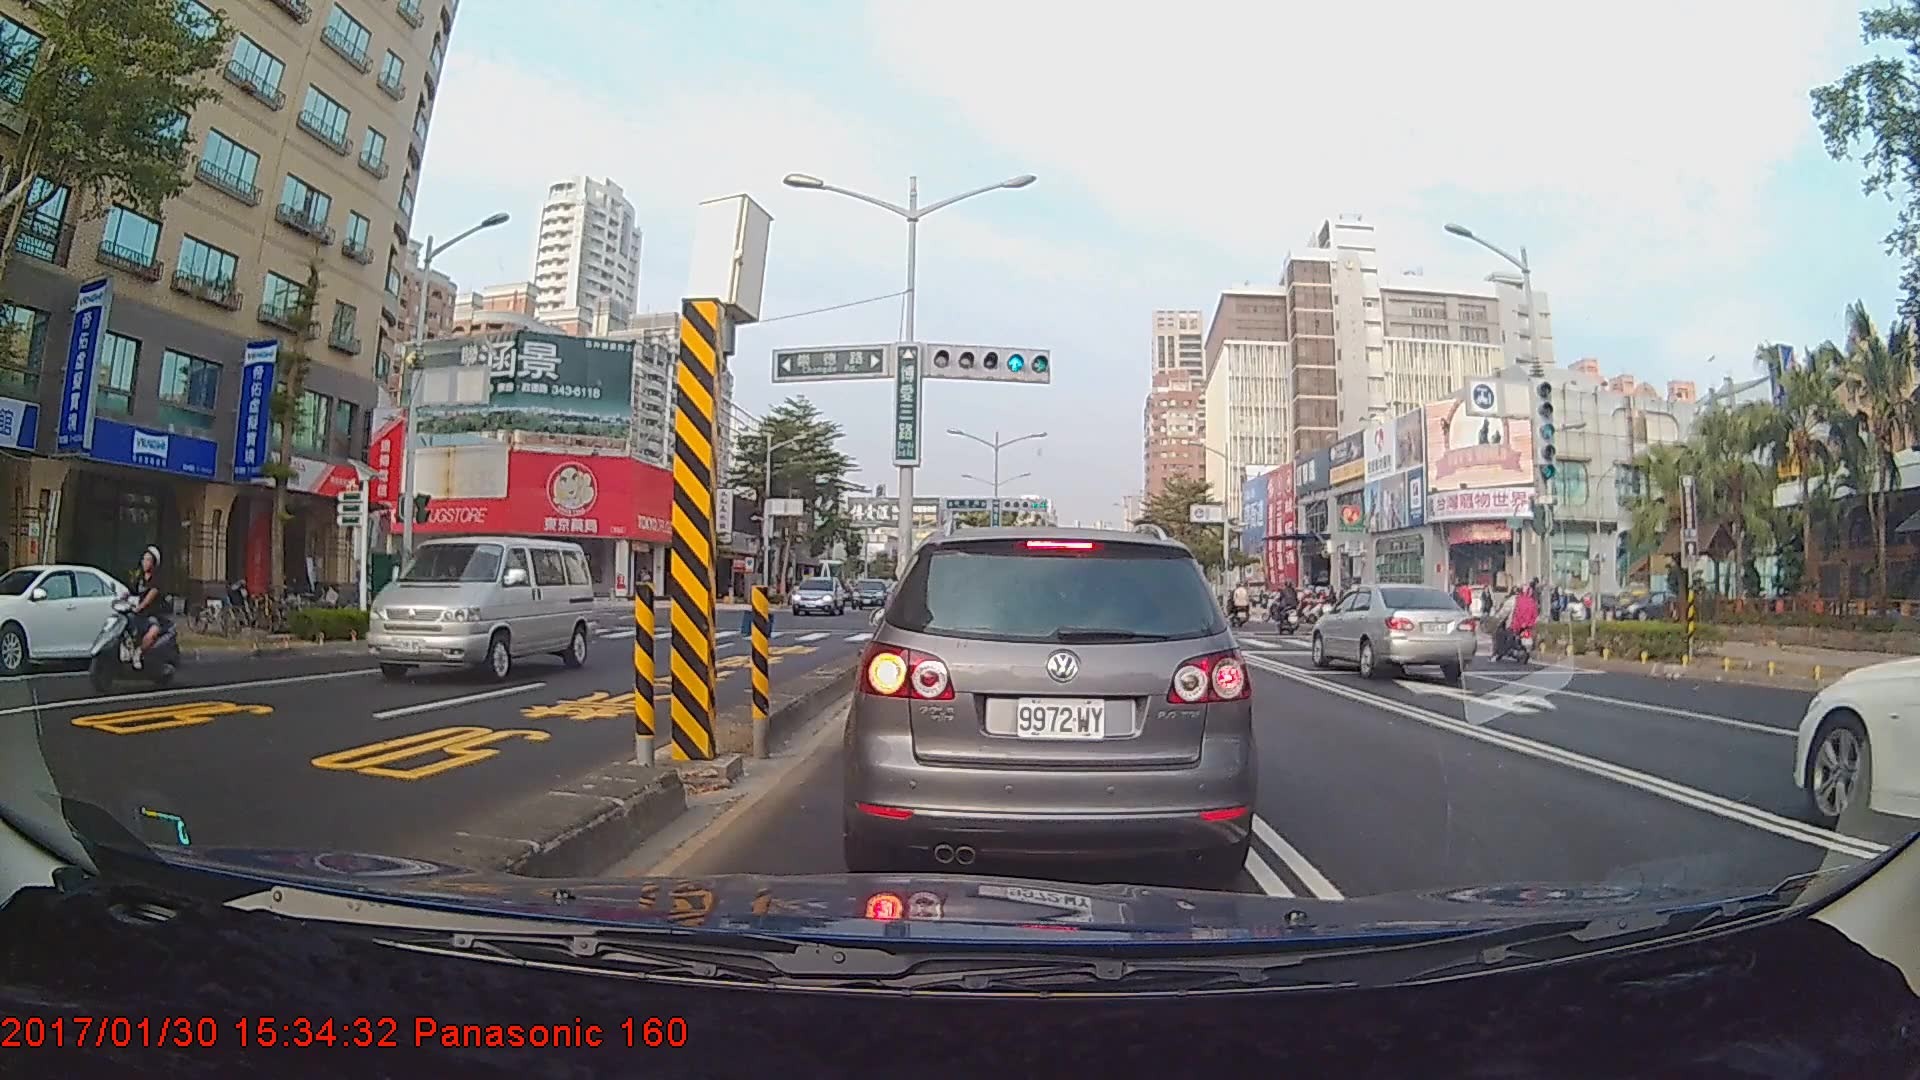rider: (89, 545, 184, 695), (1485, 582, 1548, 668)
vehicle: (855, 519, 1250, 878), (362, 535, 596, 682), (1794, 568, 1920, 838), (0, 561, 157, 671), (1308, 579, 1477, 678), (789, 572, 845, 614)
